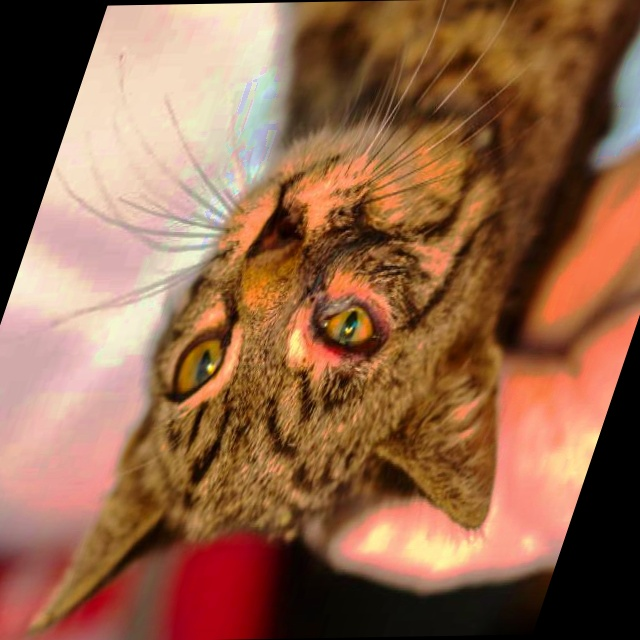eye_infection: (291, 288, 407, 368)
